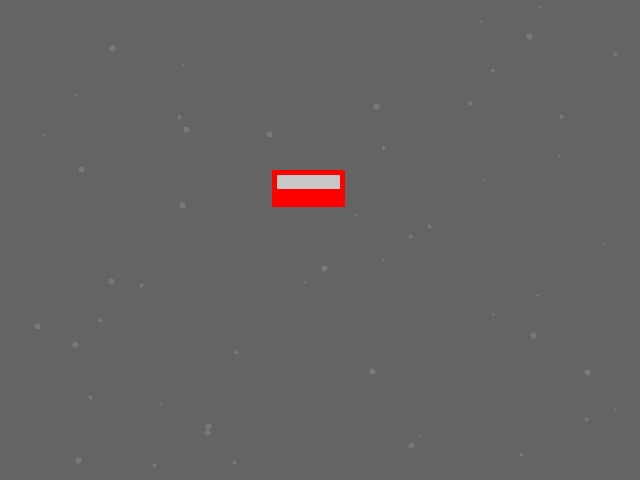car: (272, 170, 344, 206)
